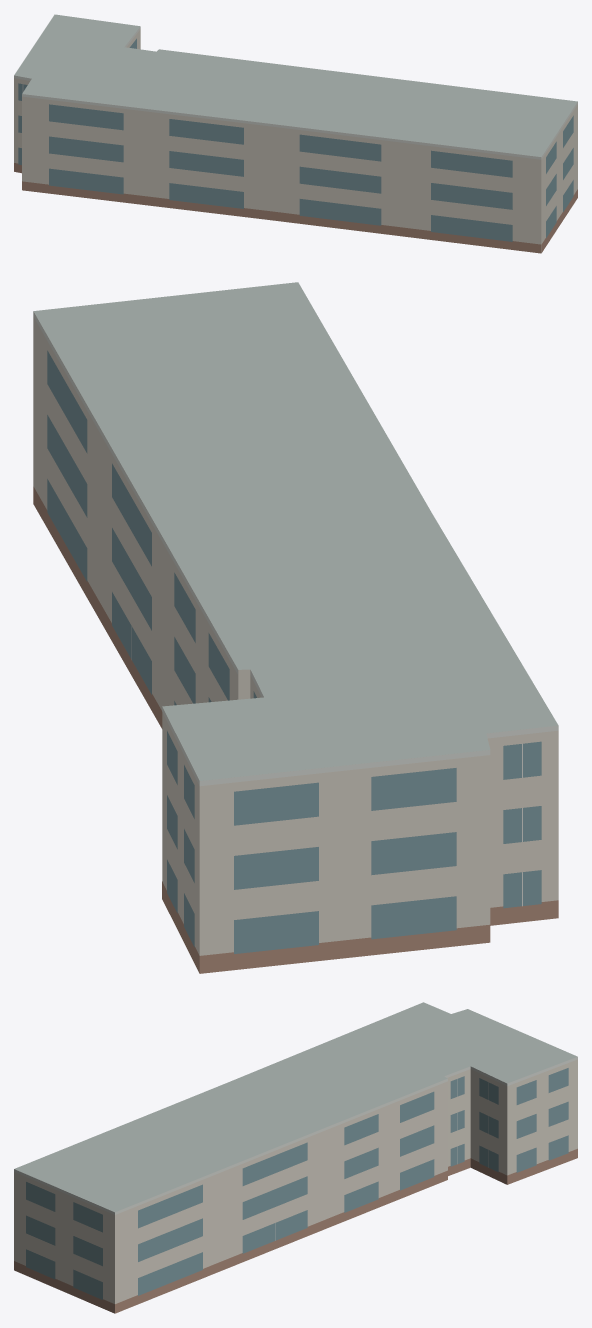
File: survey-upis-32894704.glb
3 views of the same model, one above another, from view 1: azimuth 30°, elevation 25°; view 2: azimuth 150°, elevation 25°; view 3: azimuth 270°, elevation 25° (orthographic). The views are drawn at different scales.
Visible parts, largest first — view 1: survey-upis-32894704.tmp; view 2: survey-upis-32894704.tmp; view 3: survey-upis-32894704.tmp.
Part boxes in pixels (x1=…): survey-upis-32894704.tmp: x1=14, y1=14, x2=577, y2=253; survey-upis-32894704.tmp: x1=33, y1=282, x2=558, y2=973; survey-upis-32894704.tmp: x1=14, y1=1002, x2=577, y2=1313.
Bounding box in the file's own units: 40.69 × 9.15 × 46.14.
